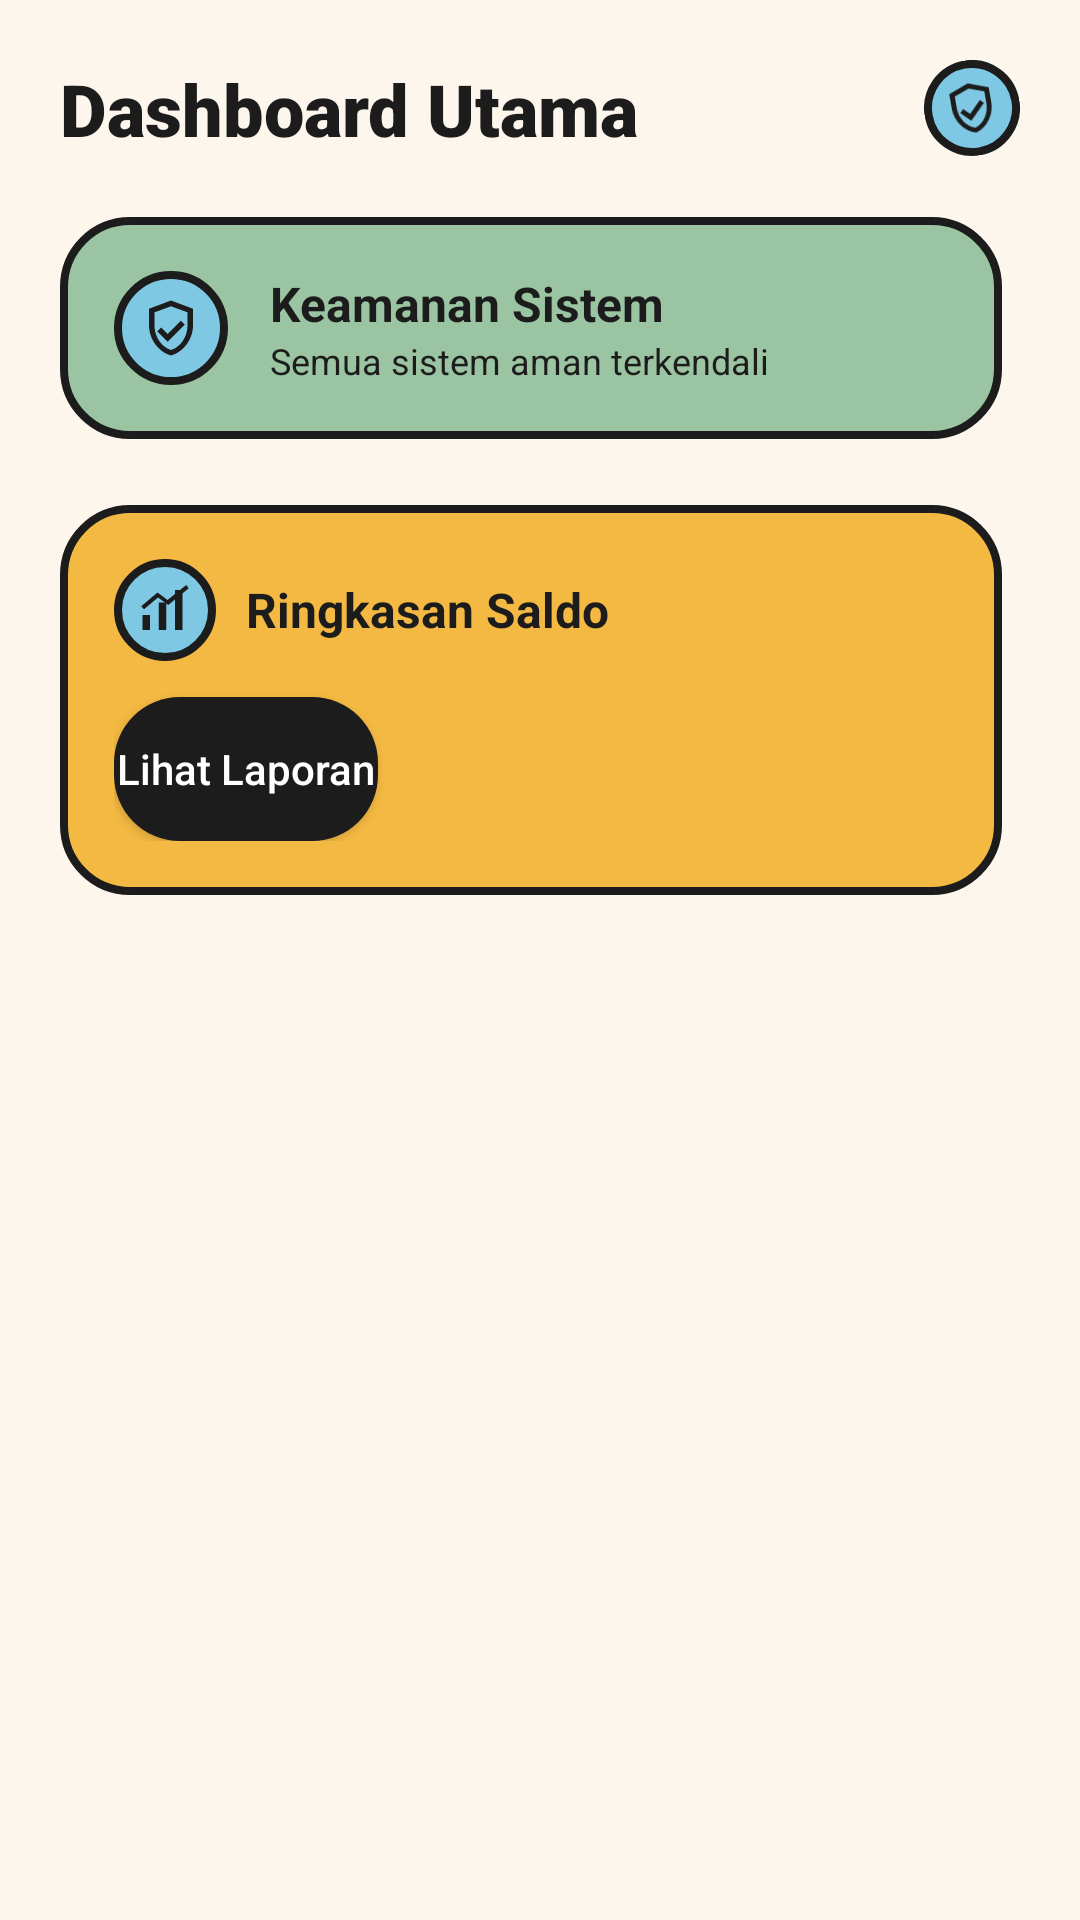

Named icons in this screenshot (1080x1920) and their bounding boxes, (x1=x1, y1=y1, x2=x2, y2=y2):
chart up: (x1=114, y1=559, x2=216, y2=661)
